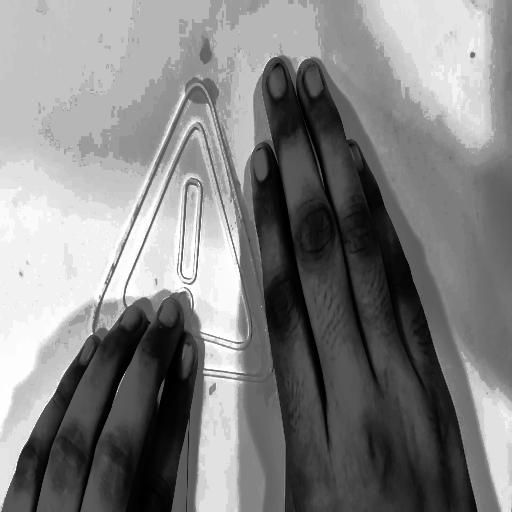signboard: (86, 74, 287, 512)
